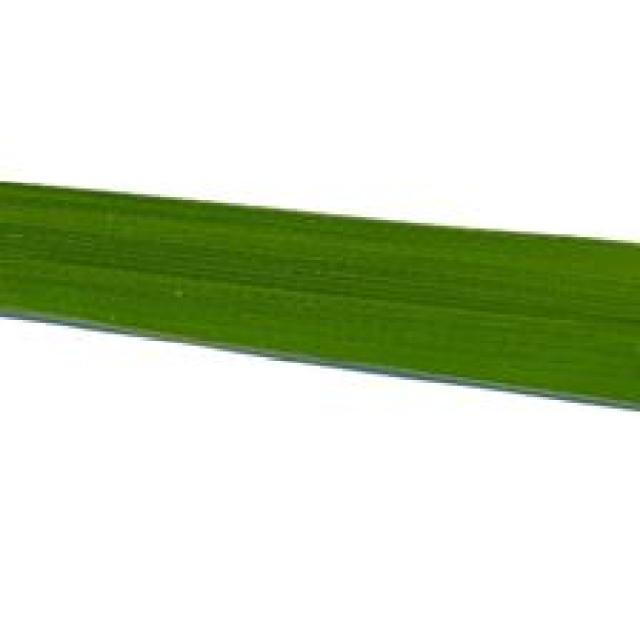Rice___Healthy_Rice_Plant: (2, 179, 637, 413)
